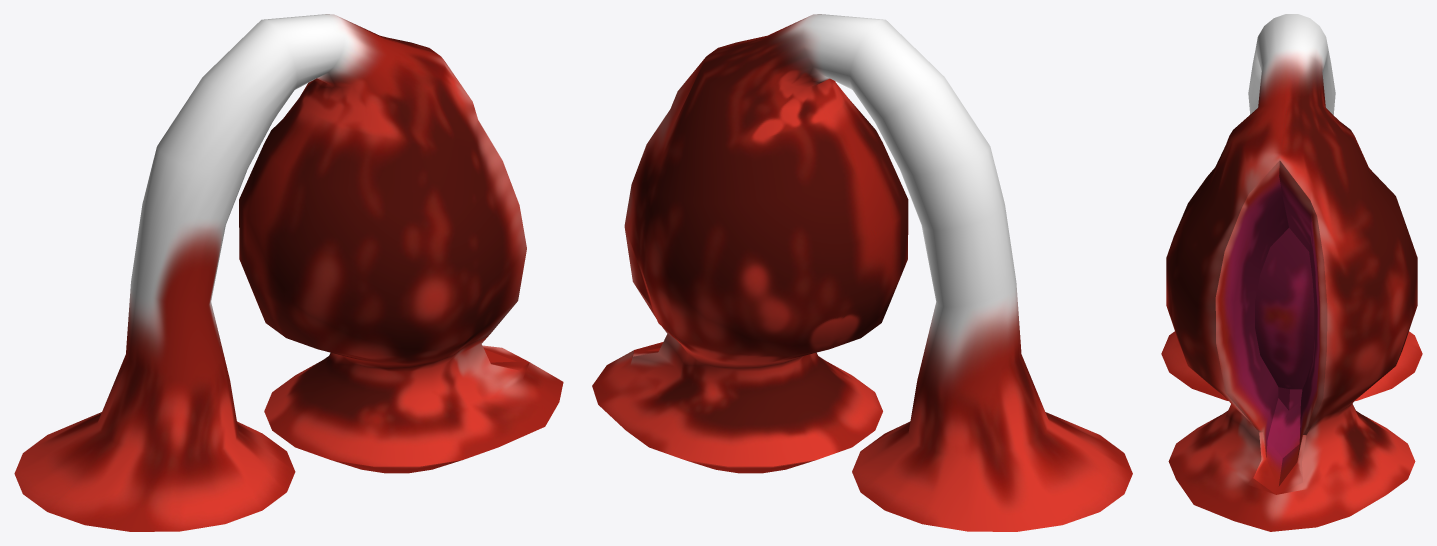
File: spawn_point.FBX
The picture shows the model from 3 angles, left to right: view 1: azimuth 30°, elevation 25°; view 2: azimuth 150°, elevation 25°; view 3: azimuth 270°, elevation 25°; orthographic projection. The views are drawn at different scales.
Visible parts, largest first — view 1: Sphere001; view 2: Sphere001; view 3: Sphere001.
Part boxes in pixels (x1,y1,x2,y2): Sphere001: (14,14,563,531); Sphere001: (592,14,1132,531); Sphere001: (1161,14,1422,531).
Bounding box in the file's own units: 422 × 362 × 199.
1 material, 1 textured.
